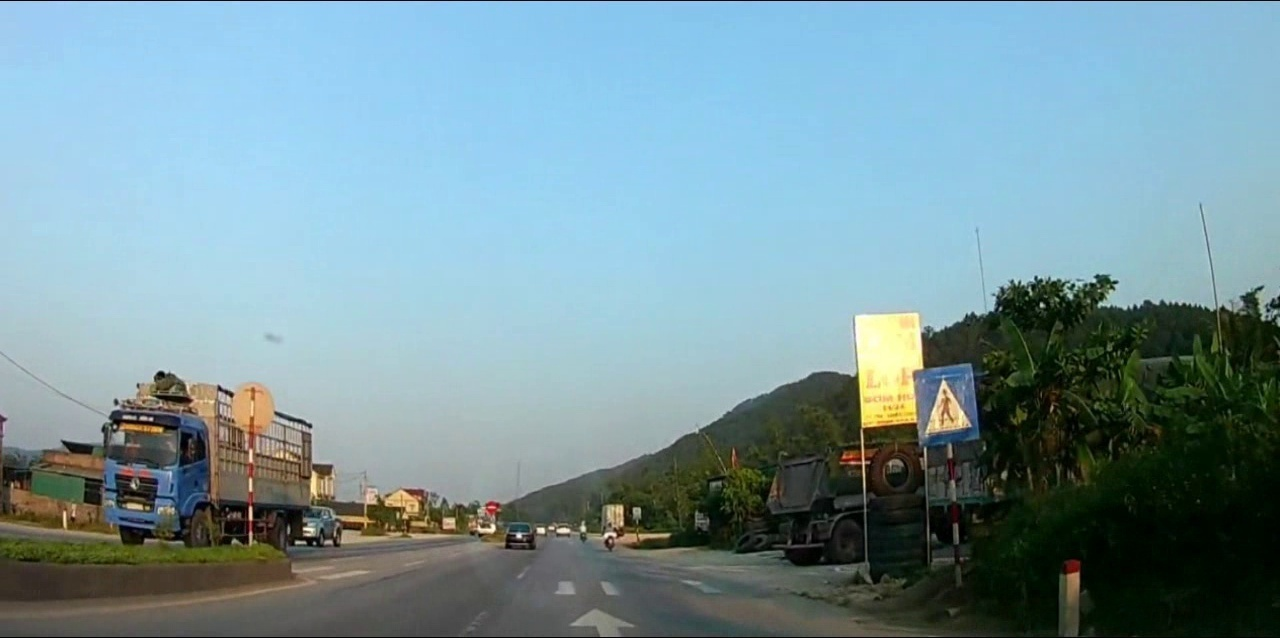Cam di nguoc chieu: (485, 501, 500, 514)
Nguoi di bo: (908, 362, 982, 445)
